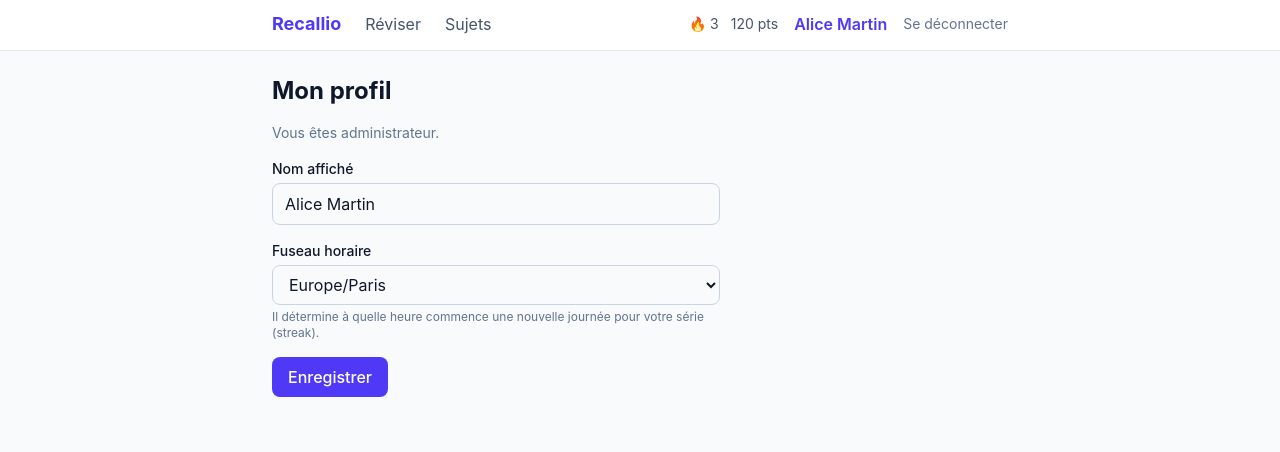
it: ProfilePage › saves the new preferences
This screenshot has width=1280, height=452.
Replace the text in the field labelled "Nom affiché" with "Alice M." at (496, 204), box [272,183,720,225]
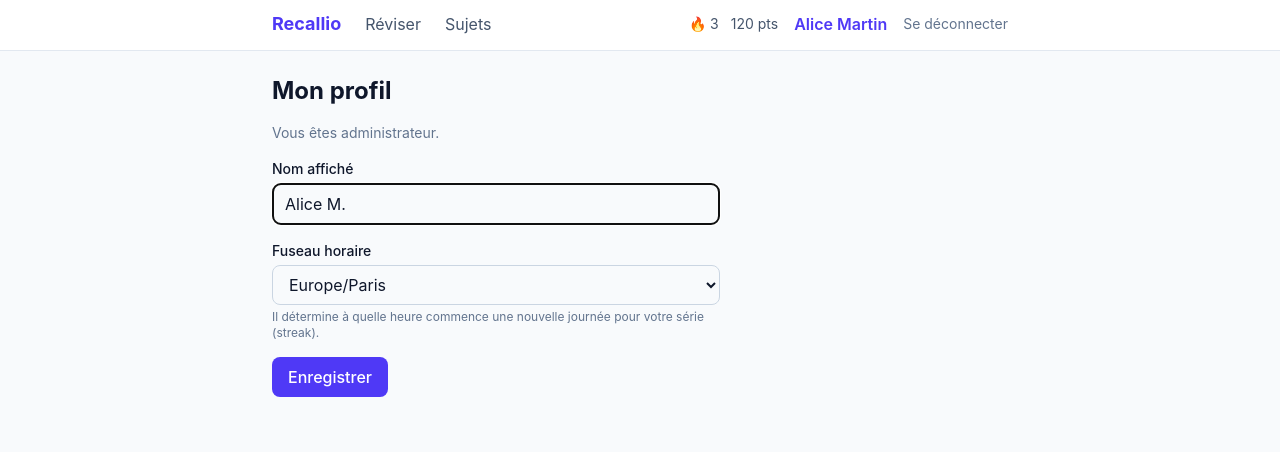
Click the button "Enregistrer" at (330, 377), box [272,357,388,397]
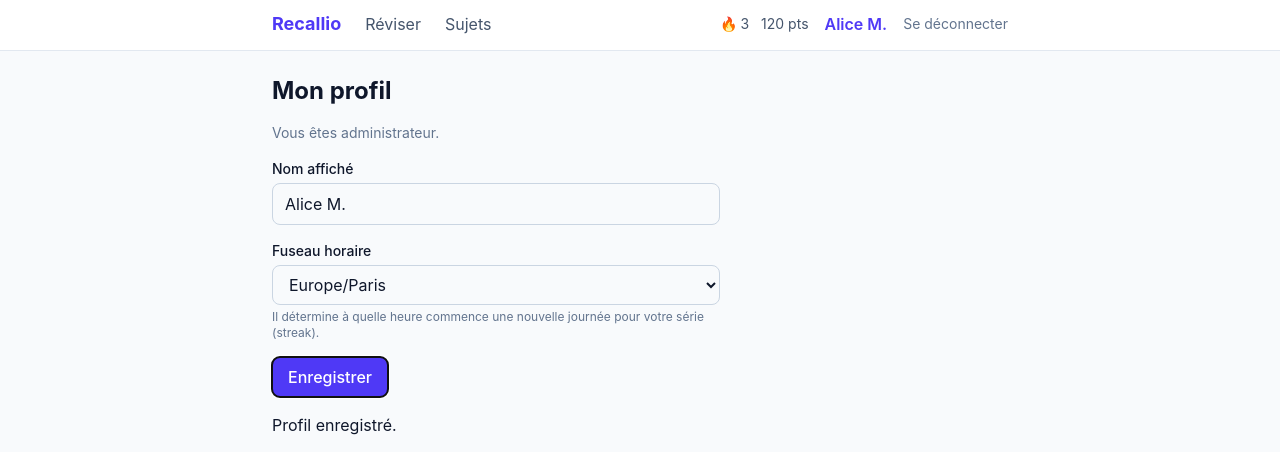
Now the message reads "Profil enregistré.", box [272,415,397,435]
